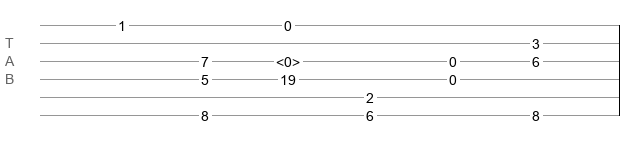0: (284, 18, 292, 28), (449, 54, 457, 64), (449, 72, 457, 82)
1: (118, 18, 126, 28)
19: (280, 72, 296, 82)
2: (366, 90, 374, 100)
3: (532, 36, 540, 46)
5: (201, 72, 209, 82)
6: (366, 108, 374, 118), (532, 54, 540, 64)
7: (201, 54, 209, 64)
8: (201, 108, 209, 118), (532, 108, 540, 118)
harmonic: (276, 54, 300, 64)
